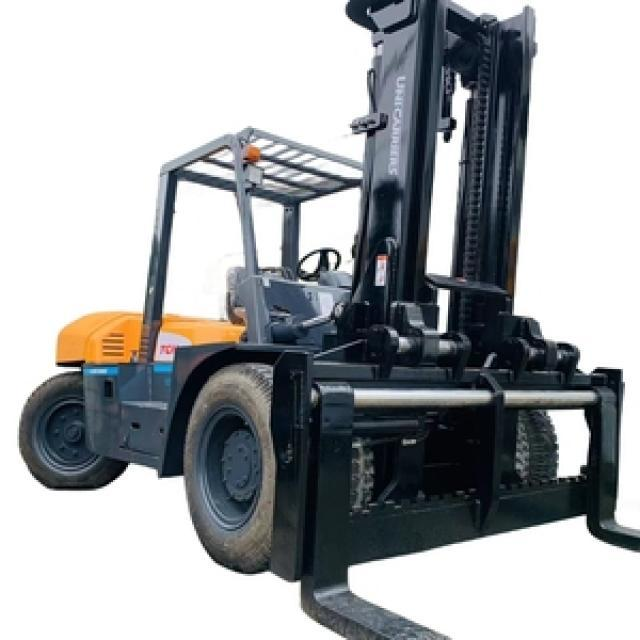forklift: (16, 76, 630, 590)
